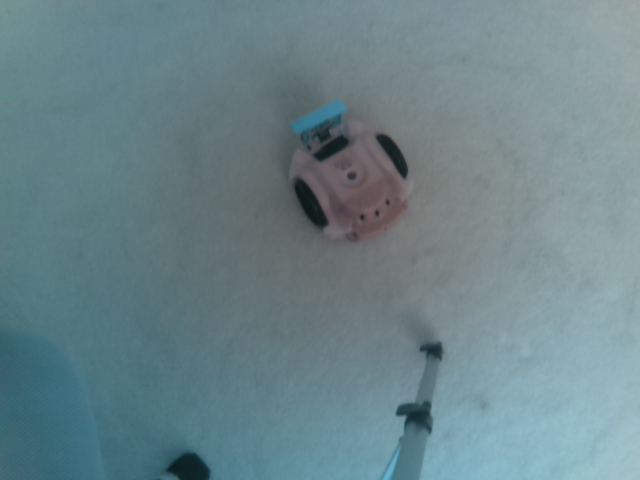board: (290, 97, 359, 143)
chassis: (282, 95, 413, 247)
